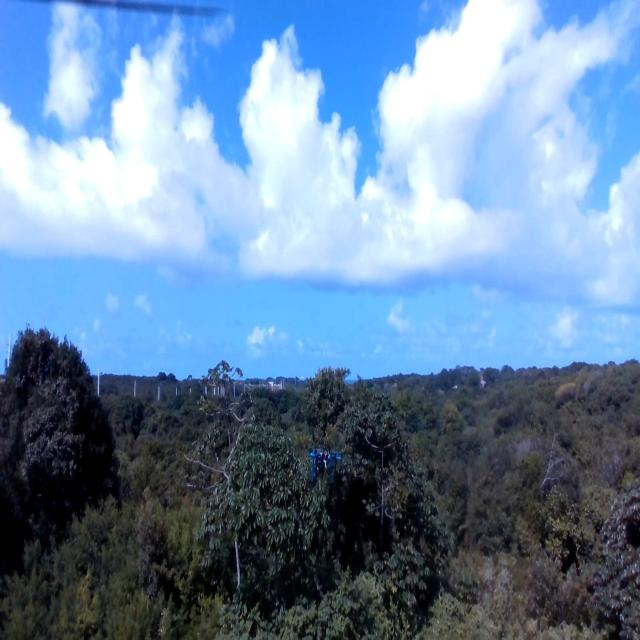-uav-: (306, 441, 342, 483)
